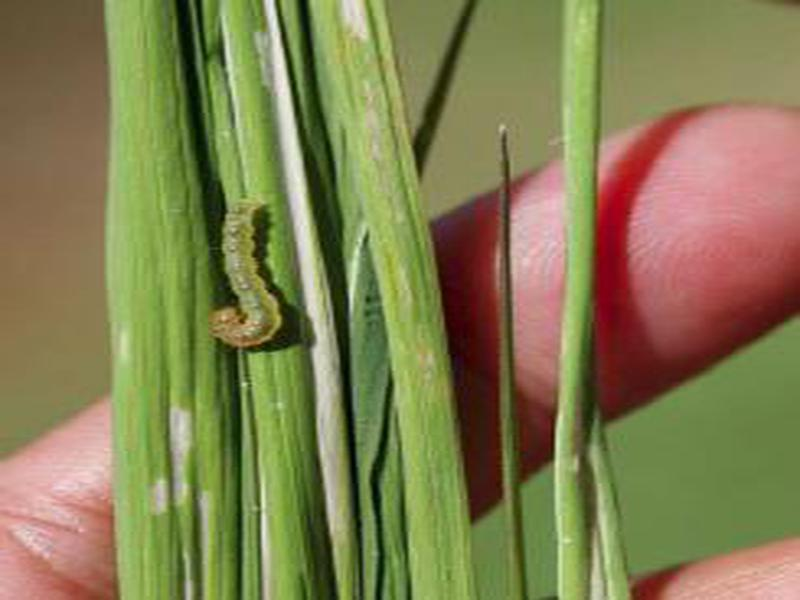Leaf_folder: (205, 187, 286, 375)
